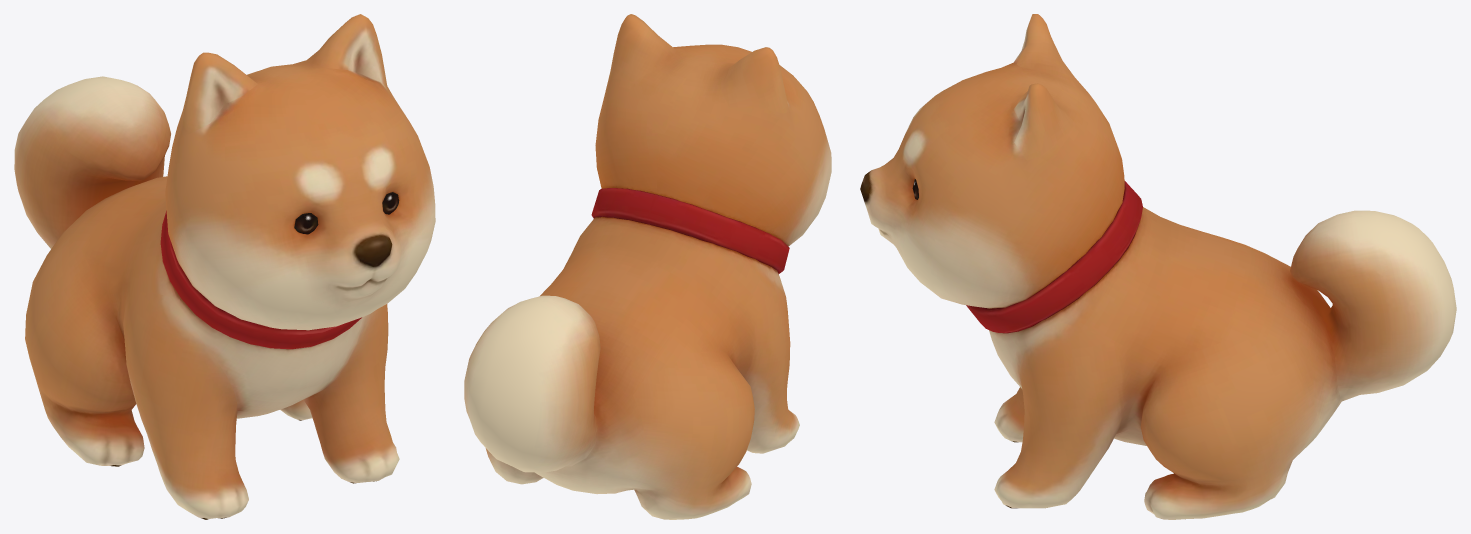
The model's file is shiba-transformed.glb.
3 renders of one model, left to right at view 1: azimuth 30°, elevation 25°; view 2: azimuth 150°, elevation 25°; view 3: azimuth 270°, elevation 25°, orthographic. The views are drawn at different scales.
Visible parts, largest first — view 1: Group18985_default_0; view 2: Group18985_default_0; view 3: Group18985_default_0.
Boxes of the visible parts, x1=… form: Group18985_default_0: x1=14, y1=14, x2=435, y2=519; Group18985_default_0: x1=464, y1=14, x2=831, y2=519; Group18985_default_0: x1=860, y1=14, x2=1456, y2=519.
Bounding box in the file's own units: 0.9212 × 1.38 × 1.77.
Materials: 1 (1 with a texture image).
